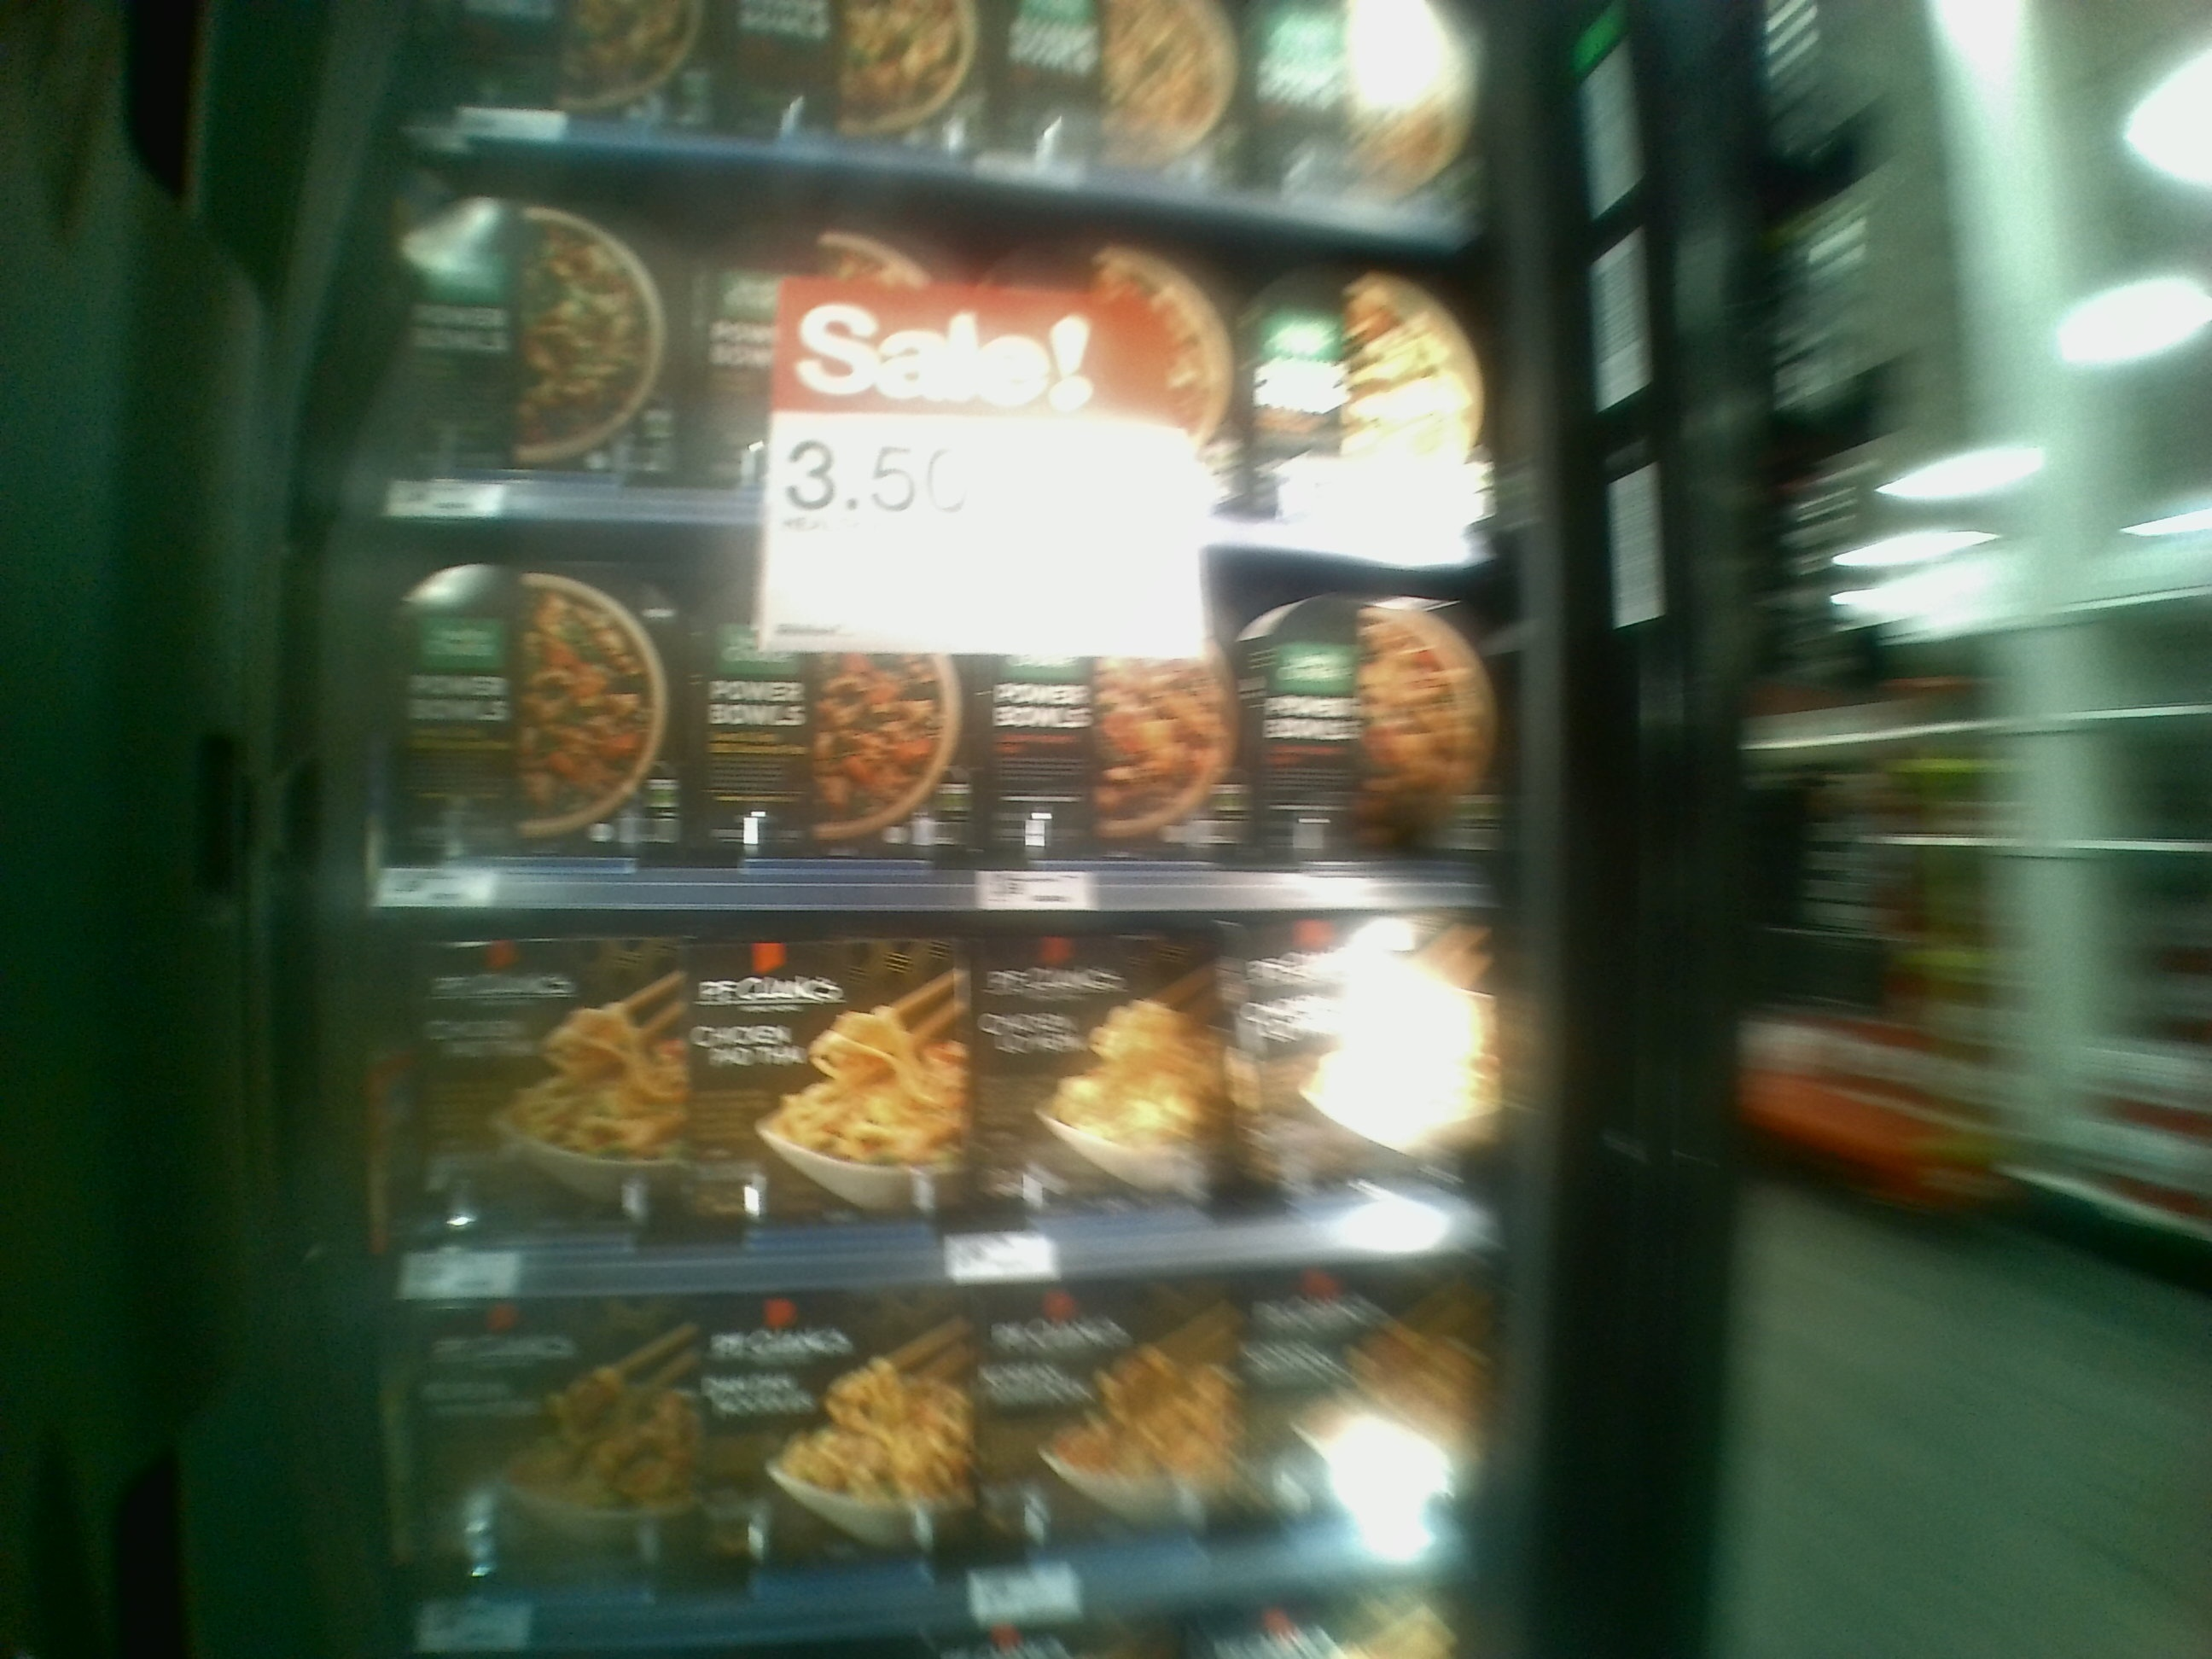shelf: (359, 512, 1505, 913), (361, 908, 1505, 1303)
